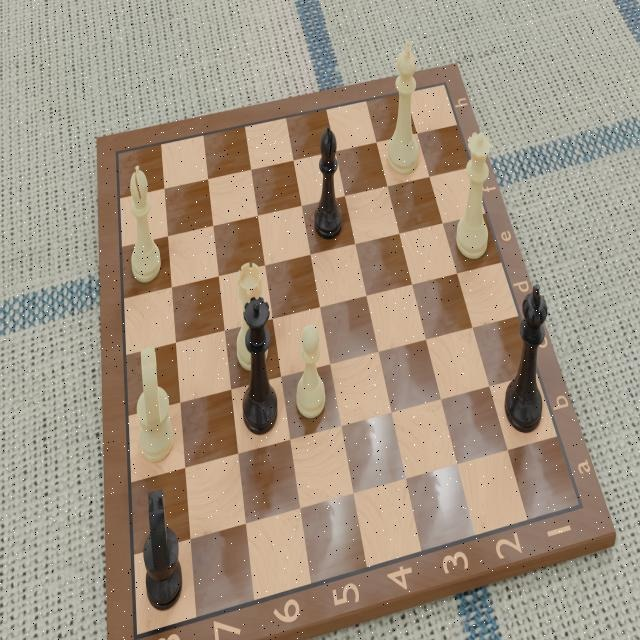black-bishop: (308, 121, 347, 243)
black-king: (504, 283, 547, 442)
black-knight: (138, 480, 185, 617)
black-queen: (238, 294, 281, 443)
white-bishop: (125, 161, 167, 290)
white-king: (383, 35, 425, 179)
white-knight: (131, 336, 176, 466)
white-pawn: (293, 321, 329, 423)
white-queen: (454, 128, 494, 264)
white-rook: (232, 254, 272, 374)
